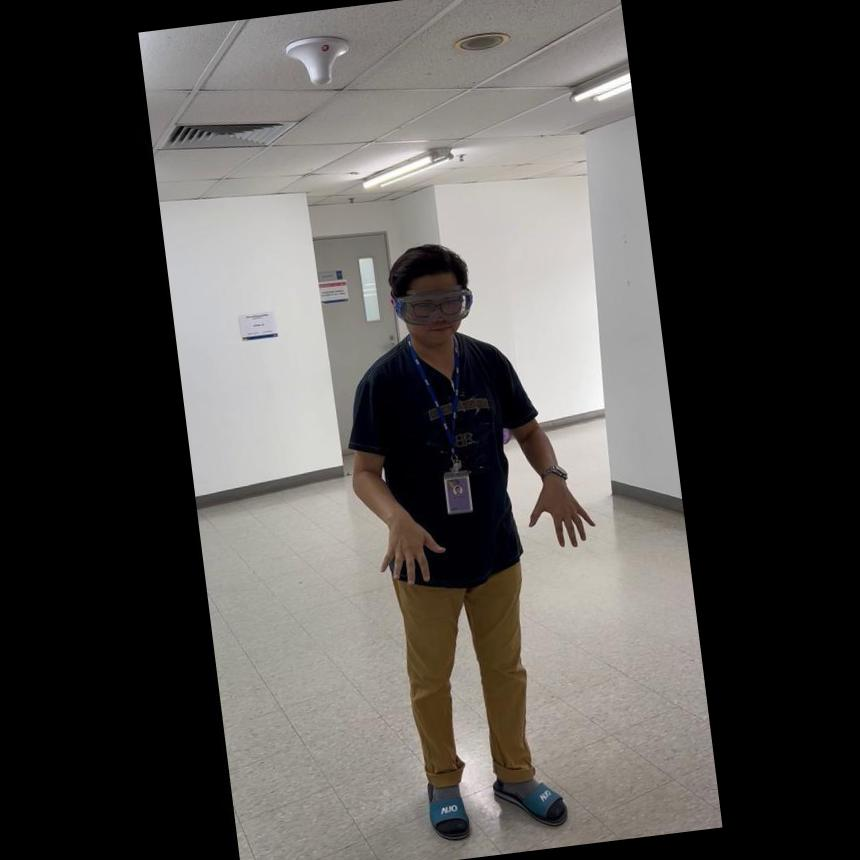No-gloves: (520, 465, 596, 555), (370, 504, 446, 586)
